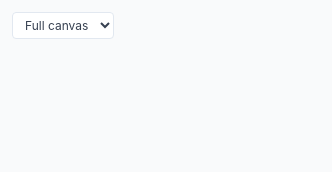
FigureExportSettings › updates custom dimensions and retains them when switching modes
This screenshot has width=332, height=172.
Select "Fixed size" in the dropdown named "Export framing" at (63, 26), box 12,12 -> 114,39
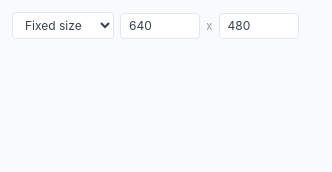
Replace the text in the number field named "Export width" with "800" at (160, 26), box 120,12 -> 200,38
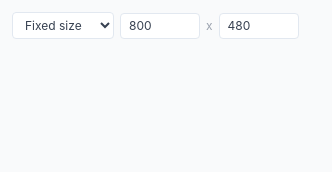
Replace the text in the number field named "Export height" with "600" at (259, 26), box 219,12 -> 299,38
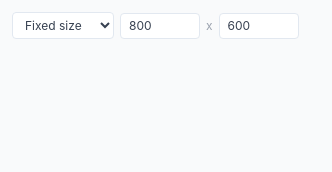
Select "Fit content" in the dropdown named "Export framing" at (63, 26), box 12,12 -> 114,39
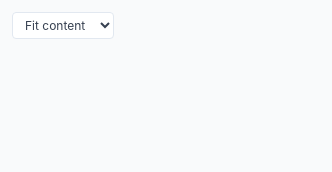
Select "Fixed size" in the dropdown named "Export framing" at (63, 26), box 12,12 -> 114,39
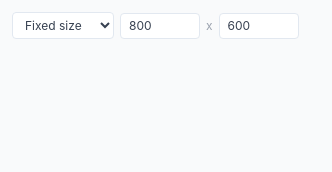
Check: the number field named "Export width" holds "800", box 120,12 -> 200,38
Check: the number field named "Export height" holds "600", box 219,12 -> 299,38
